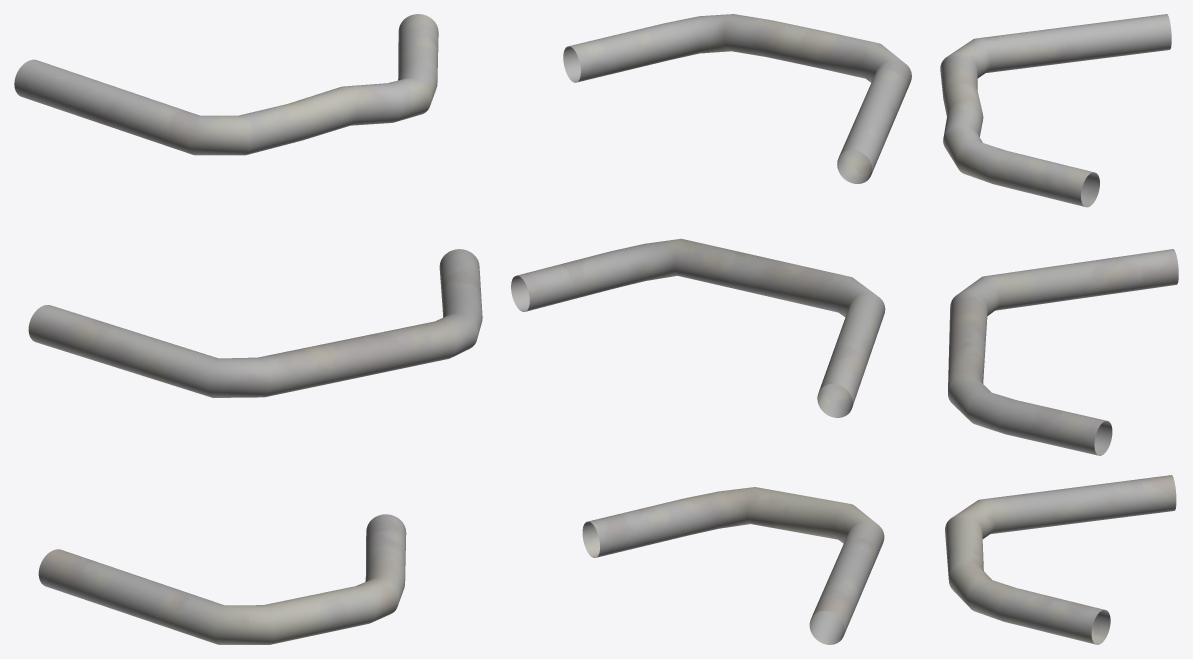
File: ladder.fbx
3 renders of one model, left to right at view 1: azimuth 30°, elevation 25°; view 2: azimuth 150°, elevation 25°; view 3: azimuth 270°, elevation 25°, orthographic. The views are drawn at different scales.
Visible parts, largest first — view 1: wallLadder01.001, wallLadder01.002, wallLadder01; view 2: wallLadder01.001, wallLadder01.002, wallLadder01; view 3: wallLadder01.001, wallLadder01.002, wallLadder01.
Part boxes in pixels (<box>): wallLadder01.001: <box>28,249,482,397</box>; wallLadder01.002: <box>14,14,438,155</box>; wallLadder01: <box>38,514,406,644</box>; wallLadder01.001: <box>511,238,885,417</box>; wallLadder01.002: <box>563,14,911,183</box>; wallLadder01: <box>582,487,884,644</box>; wallLadder01.001: <box>948,249,1178,455</box>; wallLadder01.002: <box>940,14,1171,207</box>; wallLadder01: <box>945,475,1176,644</box>.
Size of the model in its own units: 61.44 by 75.2 by 33.04.
